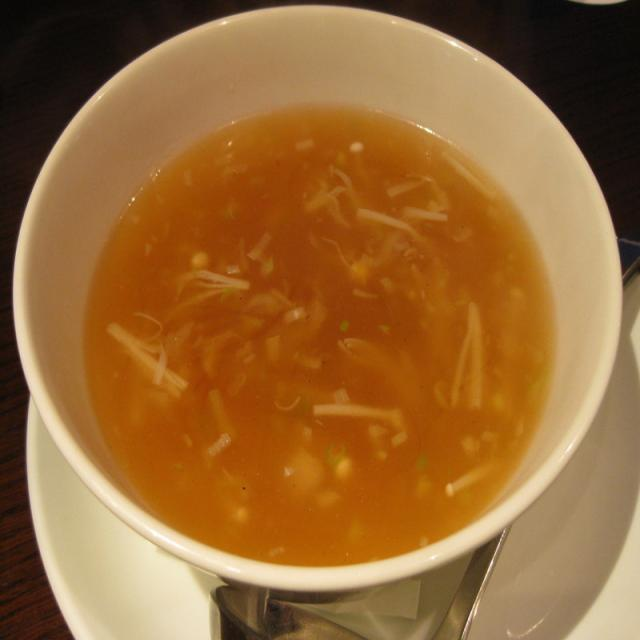汤锅炖物: (4, 1, 640, 640)
